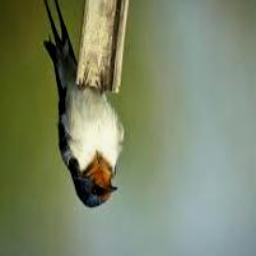Swallow: (41, 0, 125, 207)
